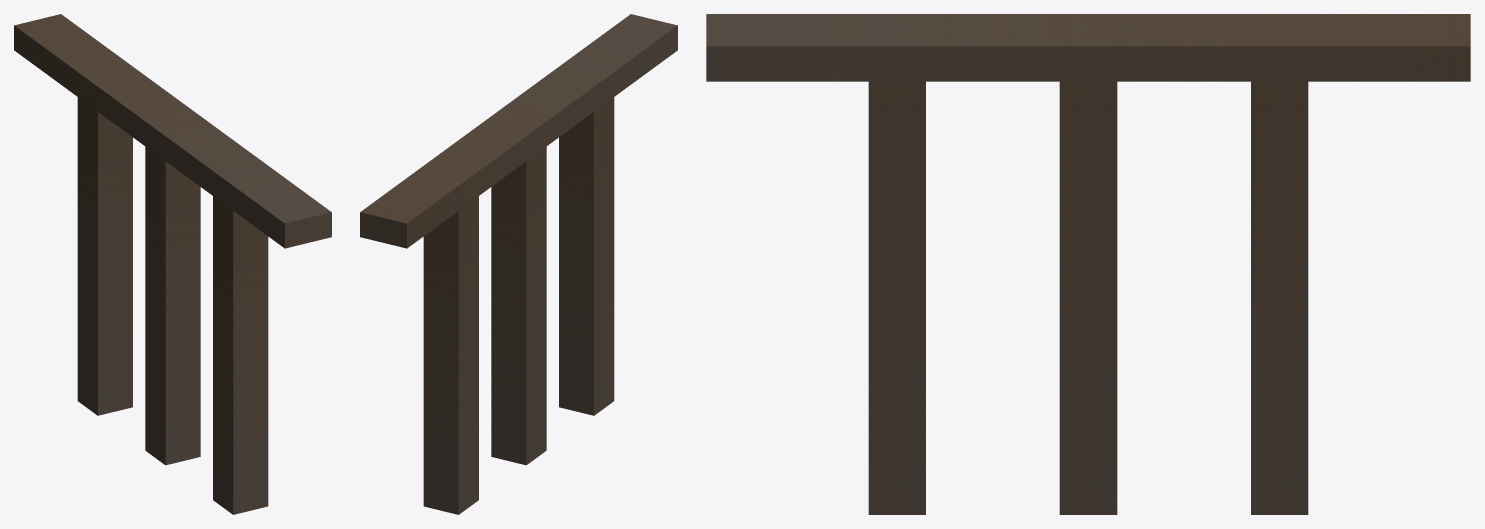
Rendered from Railling_1.fbx.
3 views of the same model, side by side, from view 1: azimuth 30°, elevation 25°; view 2: azimuth 150°, elevation 25°; view 3: azimuth 270°, elevation 25° (orthographic). The views are drawn at different scales.
Visible parts, largest first — view 1: pCube802; view 2: pCube802; view 3: pCube802.
Part boxes in pixels (x1,y1,x2,y2): pCube802: [14, 14, 331, 514]; pCube802: [360, 14, 677, 514]; pCube802: [706, 14, 1470, 514].
Size of the model in its own units: 20 by 136 by 200.
